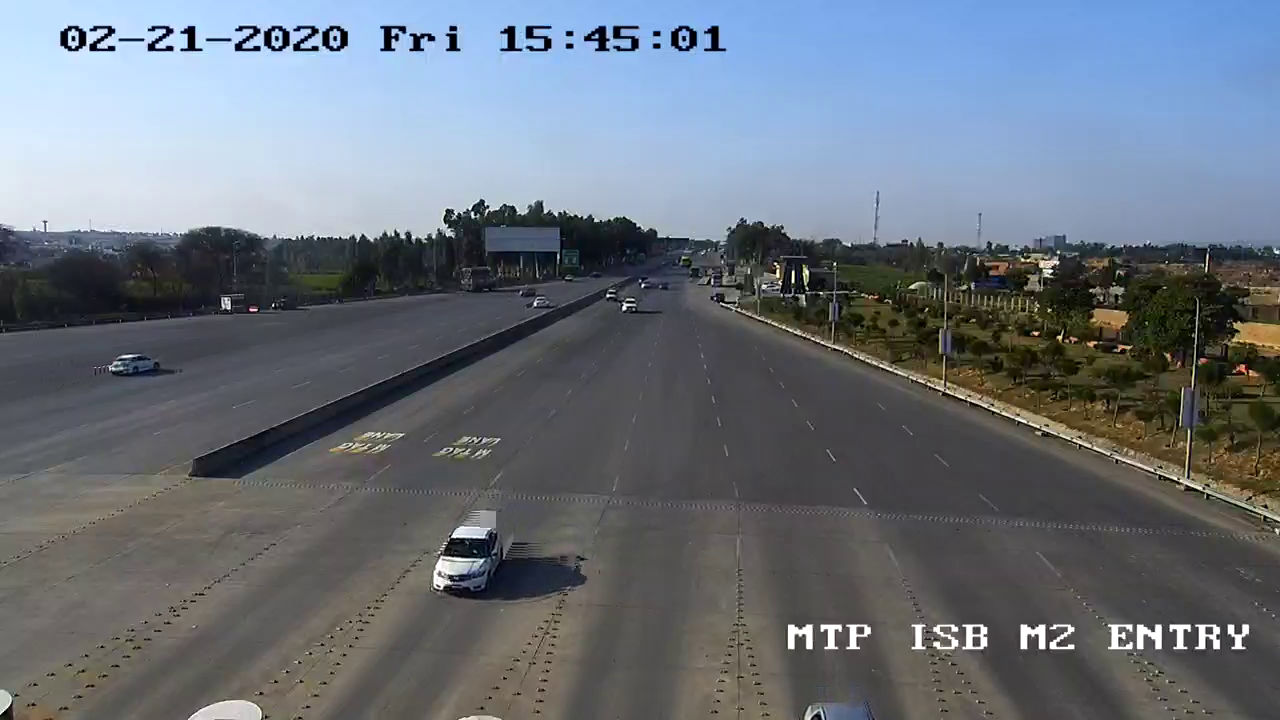f1: (429, 518, 508, 601)
